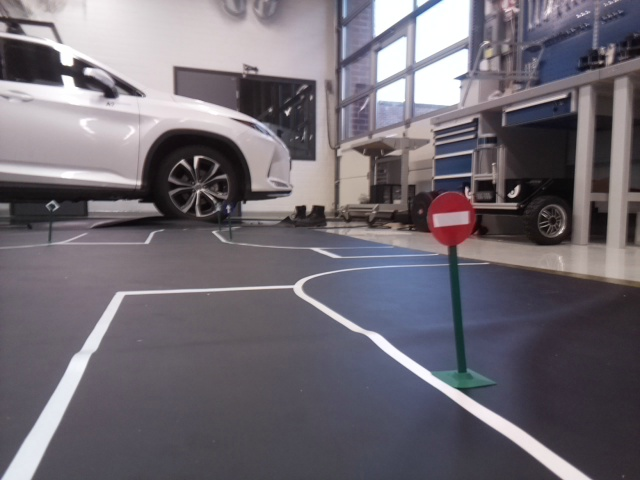NoEntry: (423, 191, 474, 244), (223, 201, 232, 213)
